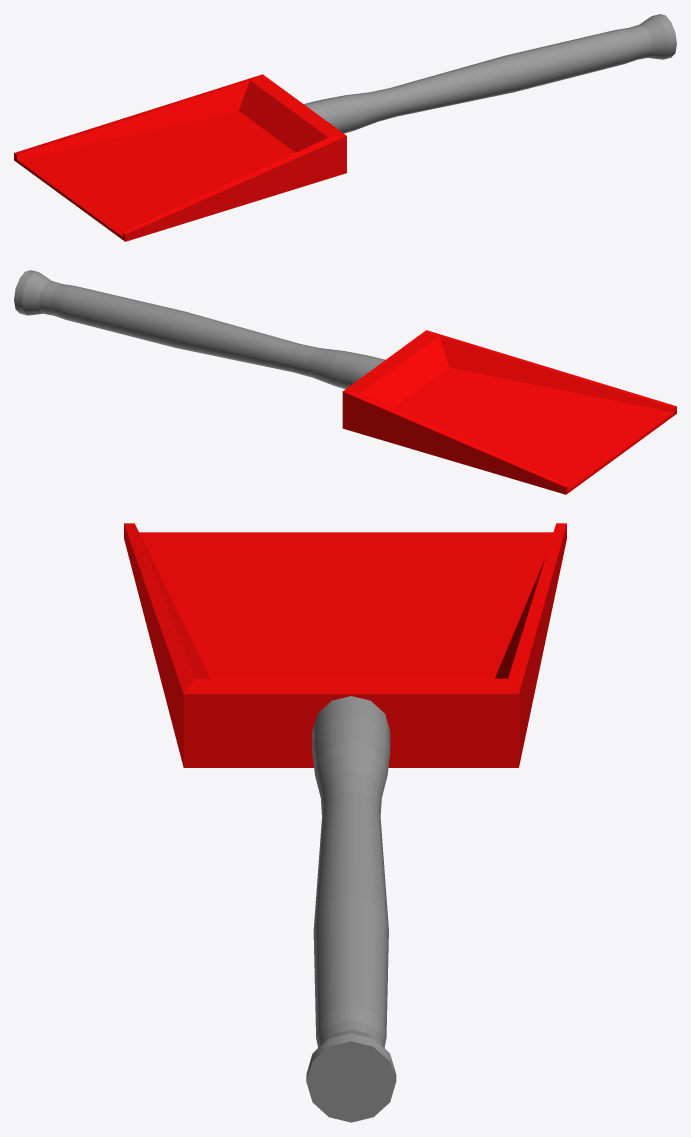
File: SM_Pelle1.FBX
3 views of the same model, one above another, from view 1: azimuth 30°, elevation 25°; view 2: azimuth 150°, elevation 25°; view 3: azimuth 270°, elevation 25° (orthographic). The views are drawn at different scales.
Parts seen in each view (by area): view 1: Object005; view 2: Object005; view 3: Object005.
Part boxes in pixels (x1,y1,x2,y2): Object005: [14, 14, 676, 241]; Object005: [14, 270, 676, 494]; Object005: [124, 523, 566, 1122].
Bounding box in the file's own units: 140 × 9.14 × 45.14.
